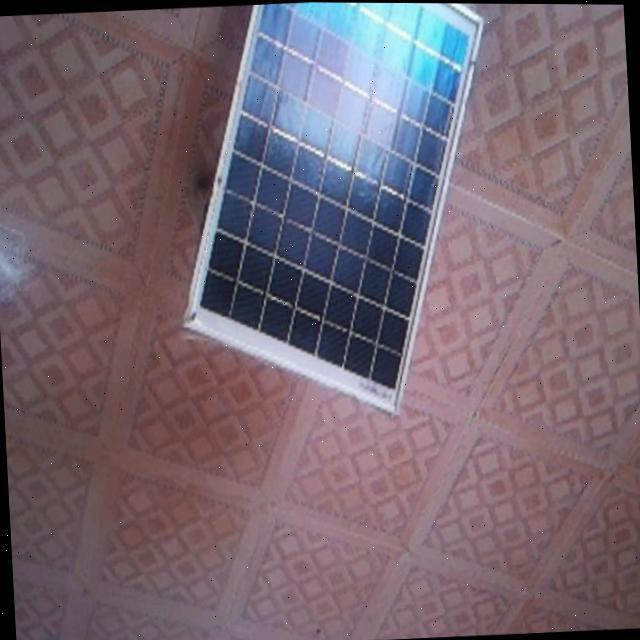Normal Solar Panel: (170, 1, 503, 424)
